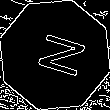N_W: (25, 29, 85, 81)
